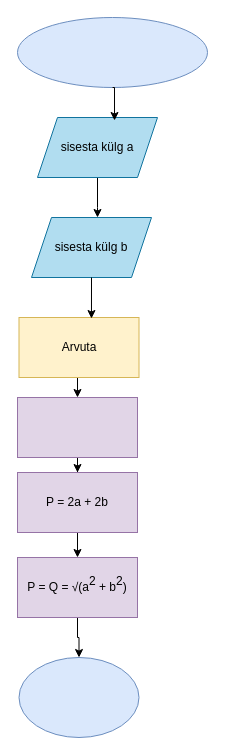
Image size: 225x755. Some labels were removed from this diagram. The box of each missing label's shape, as (x1, y1, x2, y2) in pixels:
A = ab: (16, 396, 138, 458)
algus: (16, 16, 208, 88)
Lõpp: (18, 656, 139, 738)
